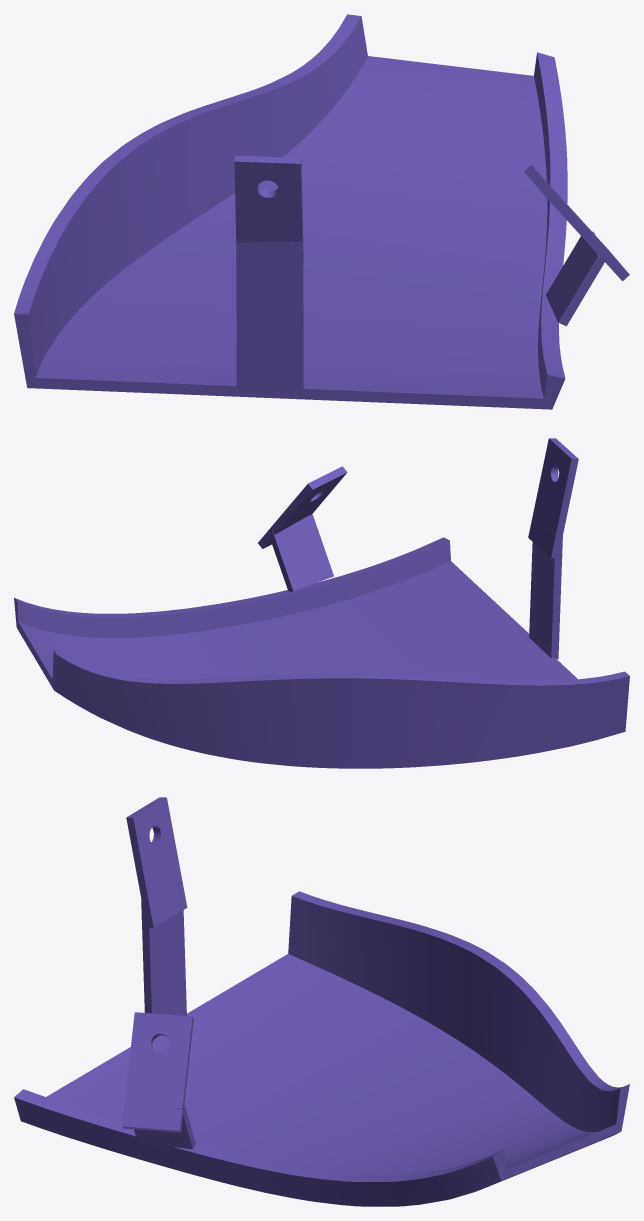
3 renders of one model, top to bottom at view 1: azimuth 30°, elevation 25°; view 2: azimuth 150°, elevation 25°; view 3: azimuth 270°, elevation 25°, orthographic. The views are drawn at different scales.
Parts seen in each view (by area): view 1: v2b_r1; view 2: v2b_r1; view 3: v2b_r1.
Boxes of the visible parts, <box> form: v2b_r1: <box>14,14,629,409</box>; v2b_r1: <box>14,438,629,768</box>; v2b_r1: <box>14,797,629,1206</box>.
Bounding box in the file's own units: 0.2255 × 0.0883 × 0.2089.
